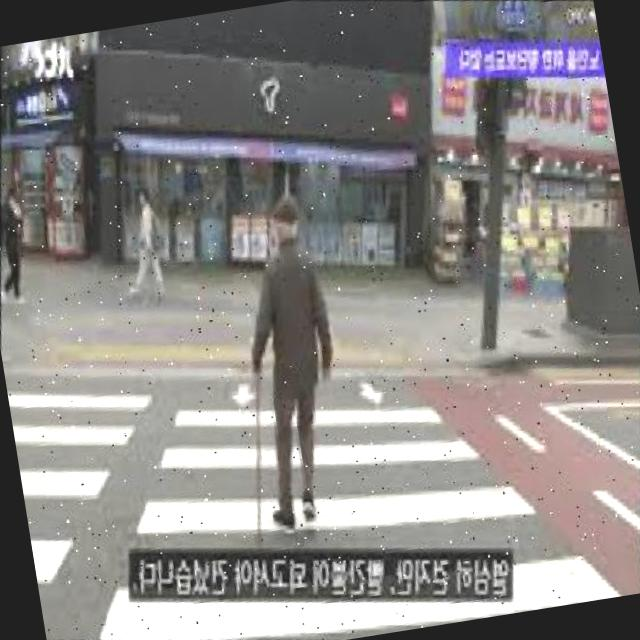Person: (198, 186, 386, 556), (110, 178, 184, 308)
